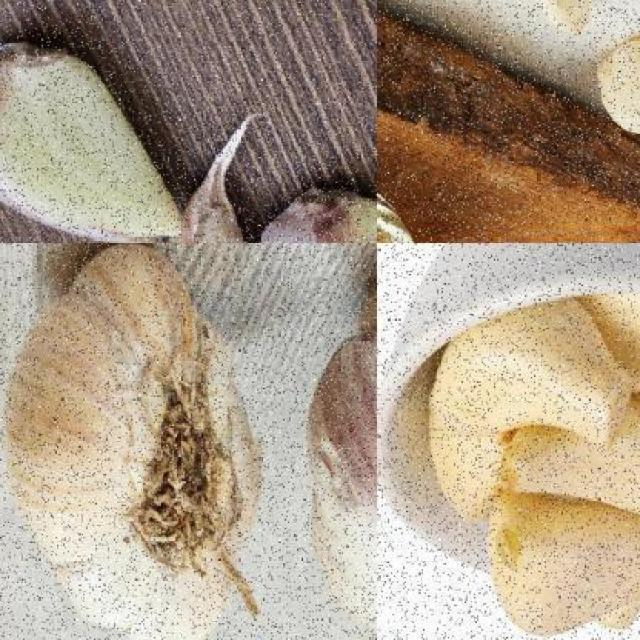garlic: (0, 242, 266, 640), (426, 280, 640, 640), (0, 33, 191, 242), (479, 486, 640, 636), (87, 182, 246, 242), (253, 187, 376, 242), (593, 33, 639, 139), (531, 0, 593, 35)
